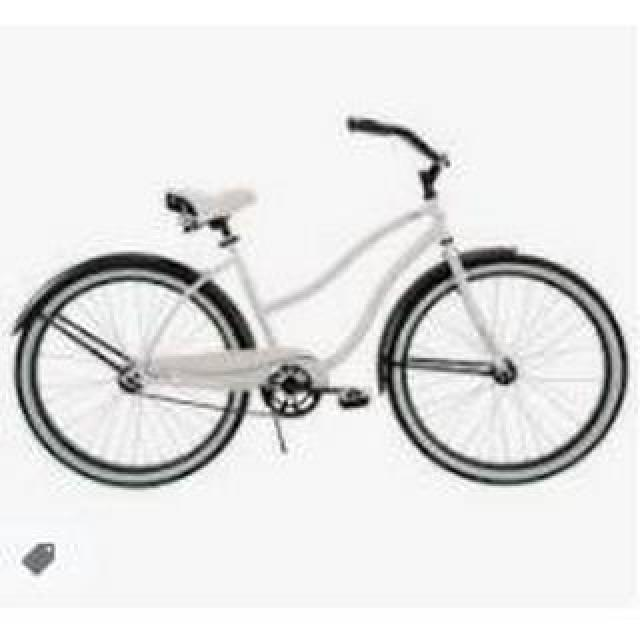Person: (13, 116, 633, 494)
